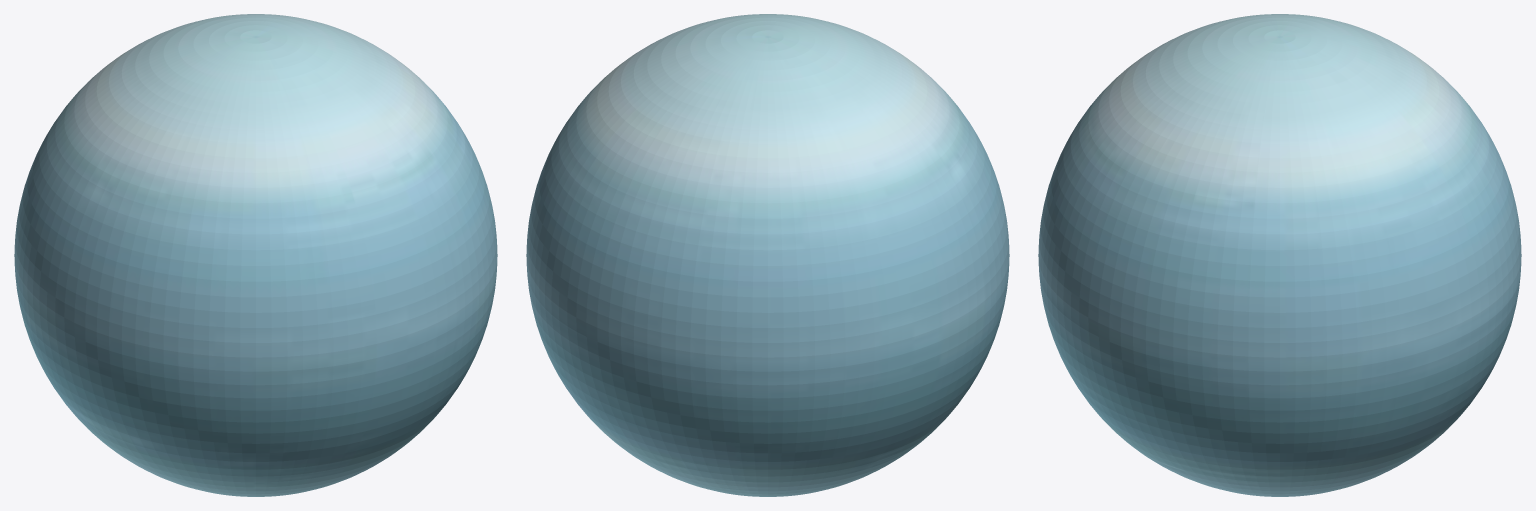
Rendered from uranus.obj.
3 renders of one model, left to right at view 1: azimuth 30°, elevation 25°; view 2: azimuth 150°, elevation 25°; view 3: azimuth 270°, elevation 25°, orthographic.
Parts seen in each view (by area): view 1: Sphere; view 2: Sphere; view 3: Sphere.
Part boxes in pixels (x1,y1,x2,y2): Sphere: (14,14,497,496); Sphere: (526,14,1009,496); Sphere: (1038,14,1521,496).
Size of the model in its own units: 2 by 2 by 2.
1 material, 1 textured.
